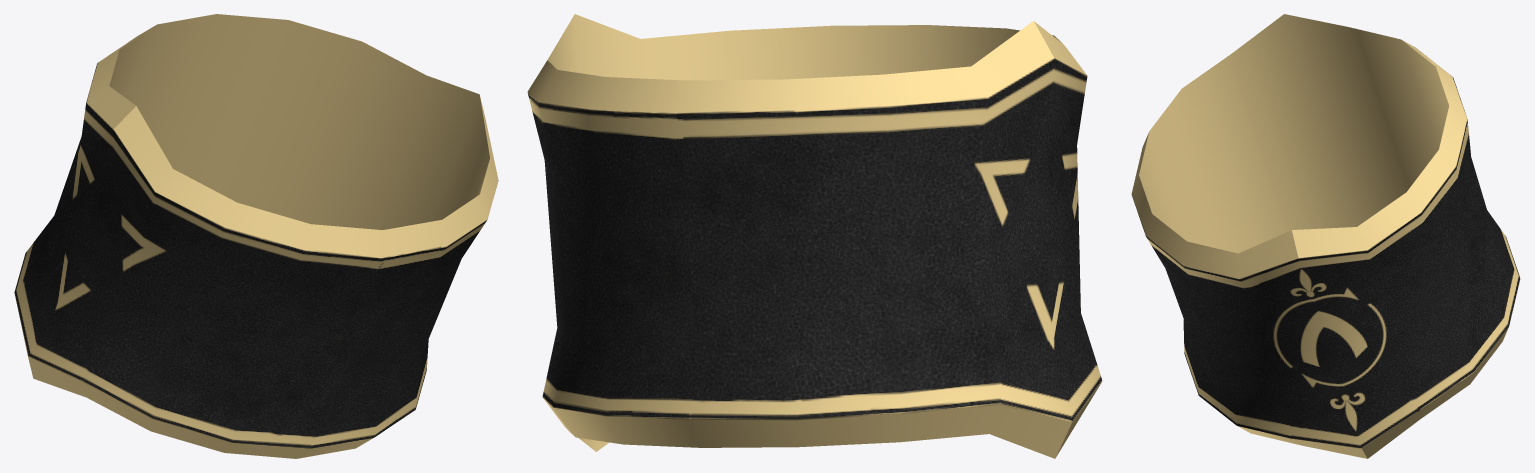
Rendered from Bracelet.fbx.
3 views of the same model, side by side, from view 1: azimuth 30°, elevation 25°; view 2: azimuth 150°, elevation 25°; view 3: azimuth 270°, elevation 25° (orthographic). The views are drawn at different scales.
Visible parts, largest first — view 1: Cylinder; view 2: Cylinder; view 3: Cylinder.
Part boxes in pixels (x1=…): Cylinder: x1=14, y1=14, x2=498, y2=458; Cylinder: x1=527, y1=14, x2=1102, y2=458; Cylinder: x1=1131, y1=14, x2=1520, y2=458.
Size of the model in its own units: 46.48 by 38.18 by 41.85.
1 material, 1 textured.
